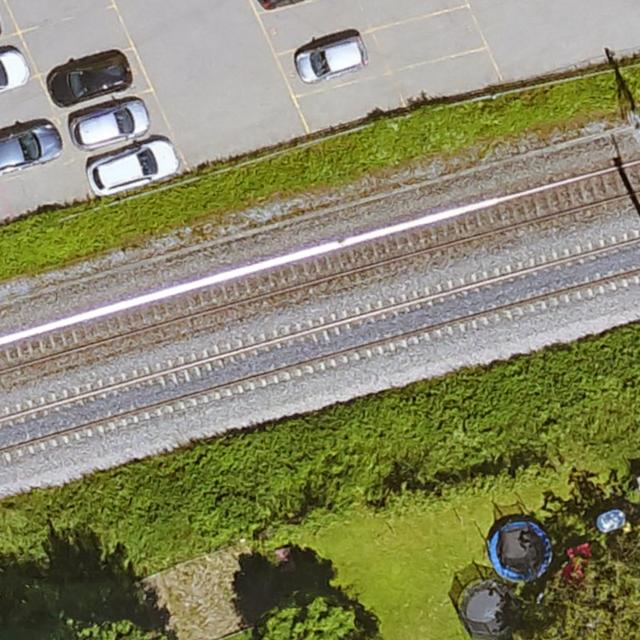tree: (520, 533, 640, 640), (253, 589, 363, 640), (64, 614, 183, 640)
